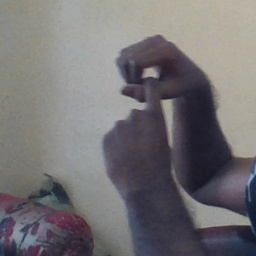Q: (97, 30, 204, 171)
